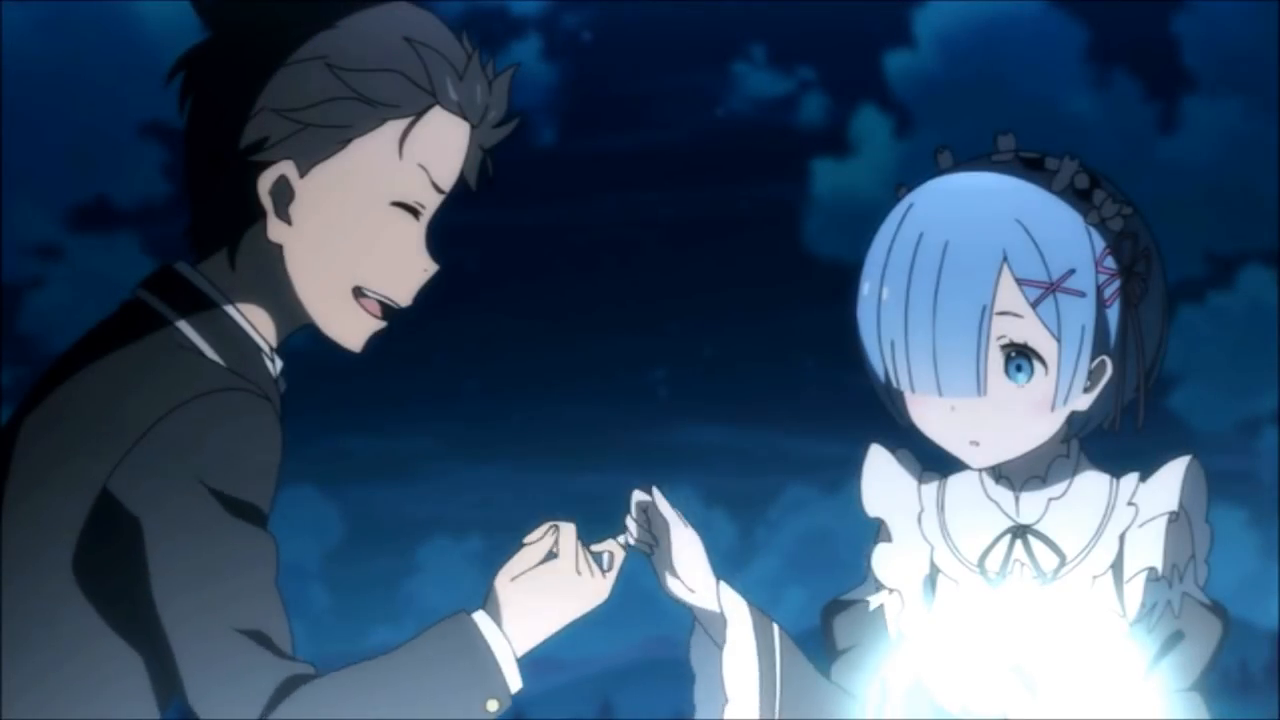REM: (845, 142, 1180, 469)
